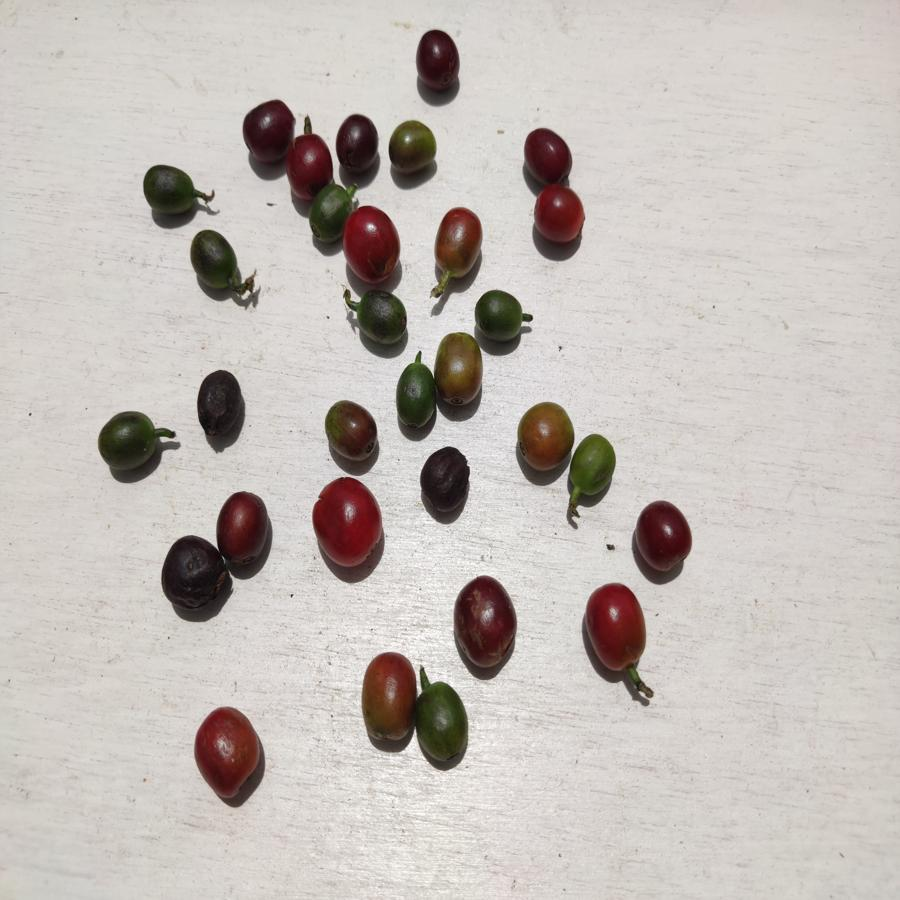Inmaduro: (95, 407, 166, 481), (416, 682, 472, 767), (189, 226, 244, 301), (142, 159, 205, 221), (570, 435, 621, 502), (355, 286, 410, 348), (393, 362, 436, 434), (475, 291, 530, 344), (304, 186, 353, 240)
Maduro: (190, 705, 270, 806), (314, 477, 385, 573), (584, 580, 652, 676), (342, 208, 402, 282), (530, 184, 588, 251), (284, 124, 339, 184)
Pinton: (359, 649, 418, 746), (513, 400, 569, 476), (432, 202, 483, 283), (432, 332, 485, 408), (321, 402, 378, 462), (390, 118, 439, 177)
Sobremaduro: (450, 572, 518, 668), (159, 535, 225, 613), (218, 489, 275, 572), (633, 498, 693, 572), (420, 446, 472, 517), (241, 96, 292, 166), (192, 369, 241, 434), (519, 128, 576, 183), (413, 30, 459, 92), (332, 115, 379, 172)
